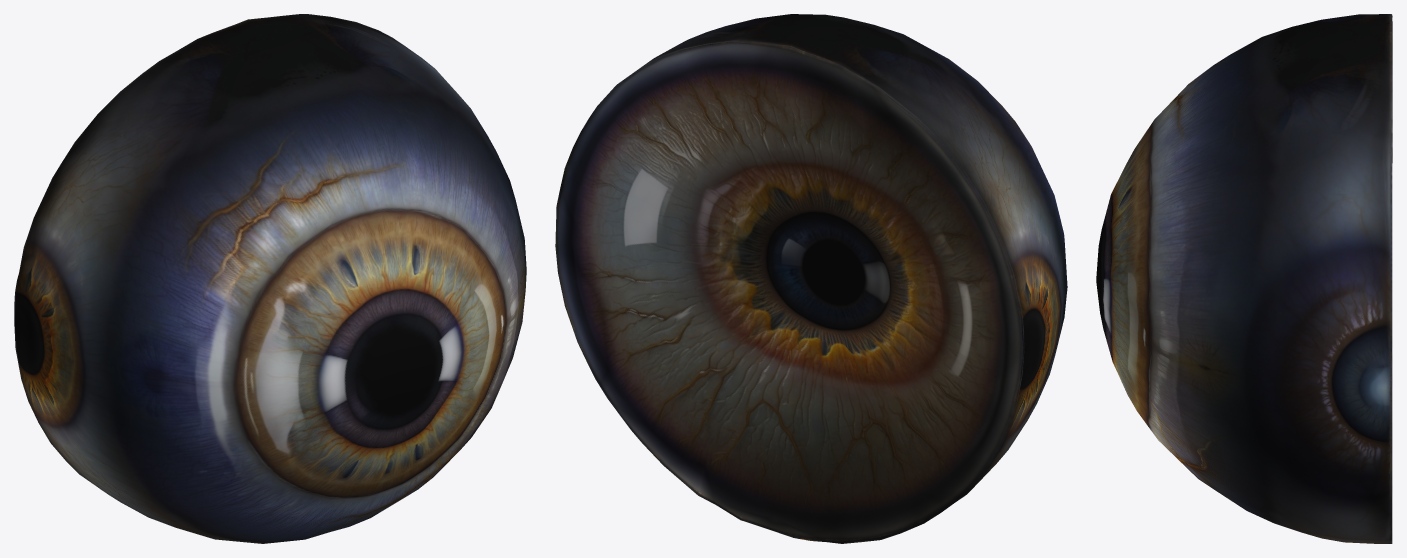
3 renders of one model, left to right at view 1: azimuth 30°, elevation 25°; view 2: azimuth 150°, elevation 25°; view 3: azimuth 270°, elevation 25°, orthographic.
Parts seen in each view (by area): view 1: Mesh1.0; view 2: Mesh1.0; view 3: Mesh1.0.
Part boxes in pixels (<box>): Mesh1.0: <box>14,14,526,543</box>; Mesh1.0: <box>555,14,1067,543</box>; Mesh1.0: <box>1096,14,1392,543</box>.
Bounding box in the file's own units: 201 × 201 × 112.
Materials: 1 (1 with a texture image).
